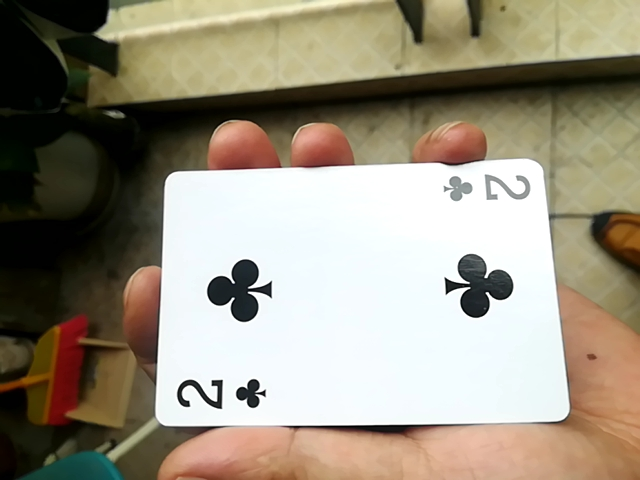mh 2: (146, 155, 566, 437)
